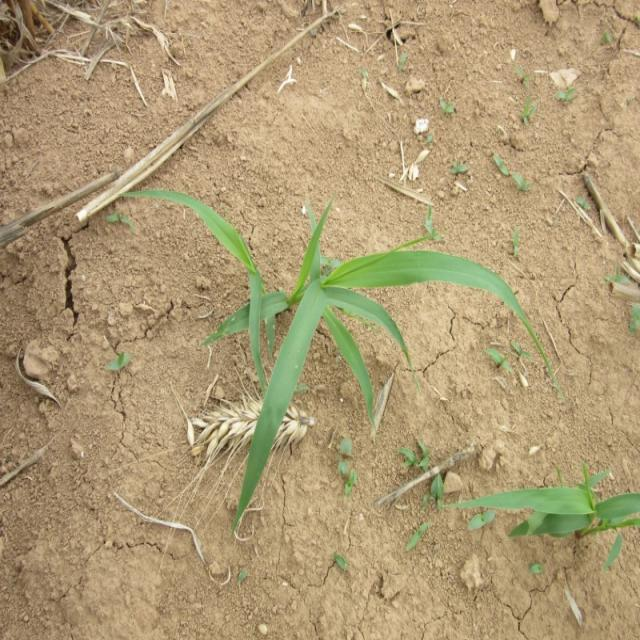bg: (107, 179, 553, 522)
